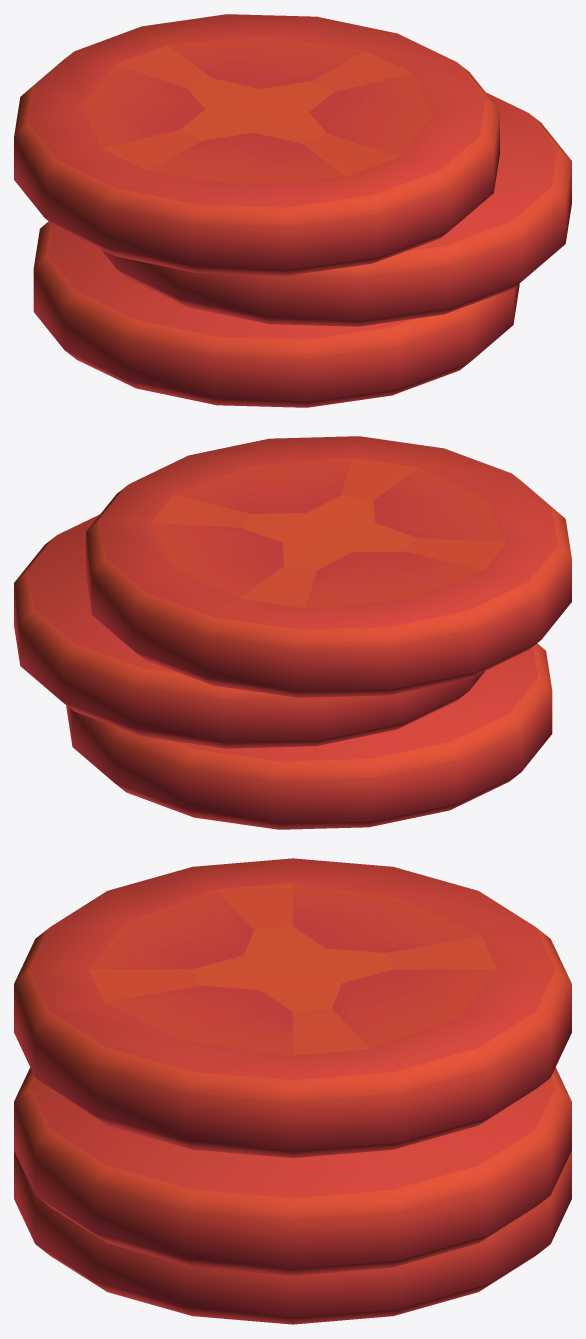
File: kaykit-restaurant-bits-food-ingredient-tomato-slices.glb
3 views of the same model, one above another, from view 1: azimuth 30°, elevation 25°; view 2: azimuth 150°, elevation 25°; view 3: azimuth 270°, elevation 25° (orthographic). The views are drawn at different scales.
Visible parts, largest first — view 1: food_ingredient_tomato_slices; view 2: food_ingredient_tomato_slices; view 3: food_ingredient_tomato_slices.
Part boxes in pixels (x1,y1,x2,y2): food_ingredient_tomato_slices: [14, 14, 571, 407]; food_ingredient_tomato_slices: [14, 436, 571, 829]; food_ingredient_tomato_slices: [14, 858, 571, 1324].
Size of the model in its own units: 0.76 by 0.3 by 0.65.
1 material, 1 textured.
